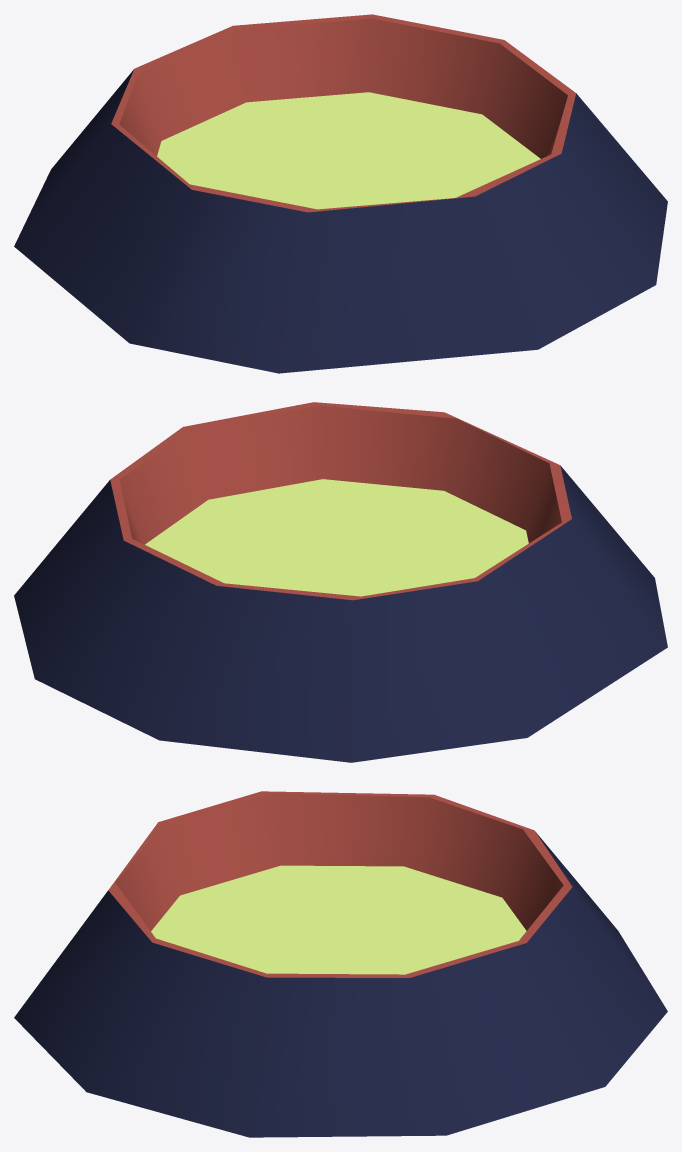
Rendered from Abiss.fbx.
The picture shows the model from 3 angles, top to bottom: view 1: azimuth 30°, elevation 25°; view 2: azimuth 150°, elevation 25°; view 3: azimuth 270°, elevation 25°; orthographic projection.
Parts seen in each view (by area): view 1: Abiss; view 2: Abiss; view 3: Abiss.
Part boxes in pixels (left/top/right/bottom): Abiss: left=14, top=14, right=667, bottom=373; Abiss: left=14, top=402, right=667, bottom=762; Abiss: left=14, top=791, right=667, bottom=1137.
Bounding box in the file's own units: 103 × 21.78 × 107.
